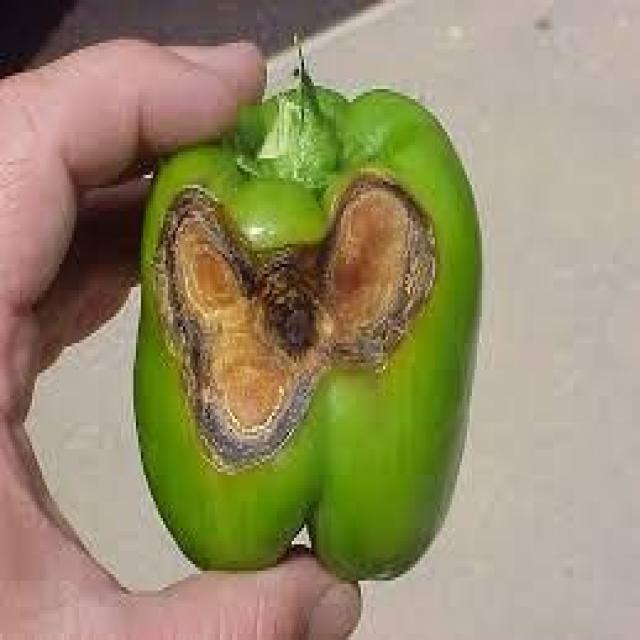Wet Waste: (118, 62, 486, 587)
